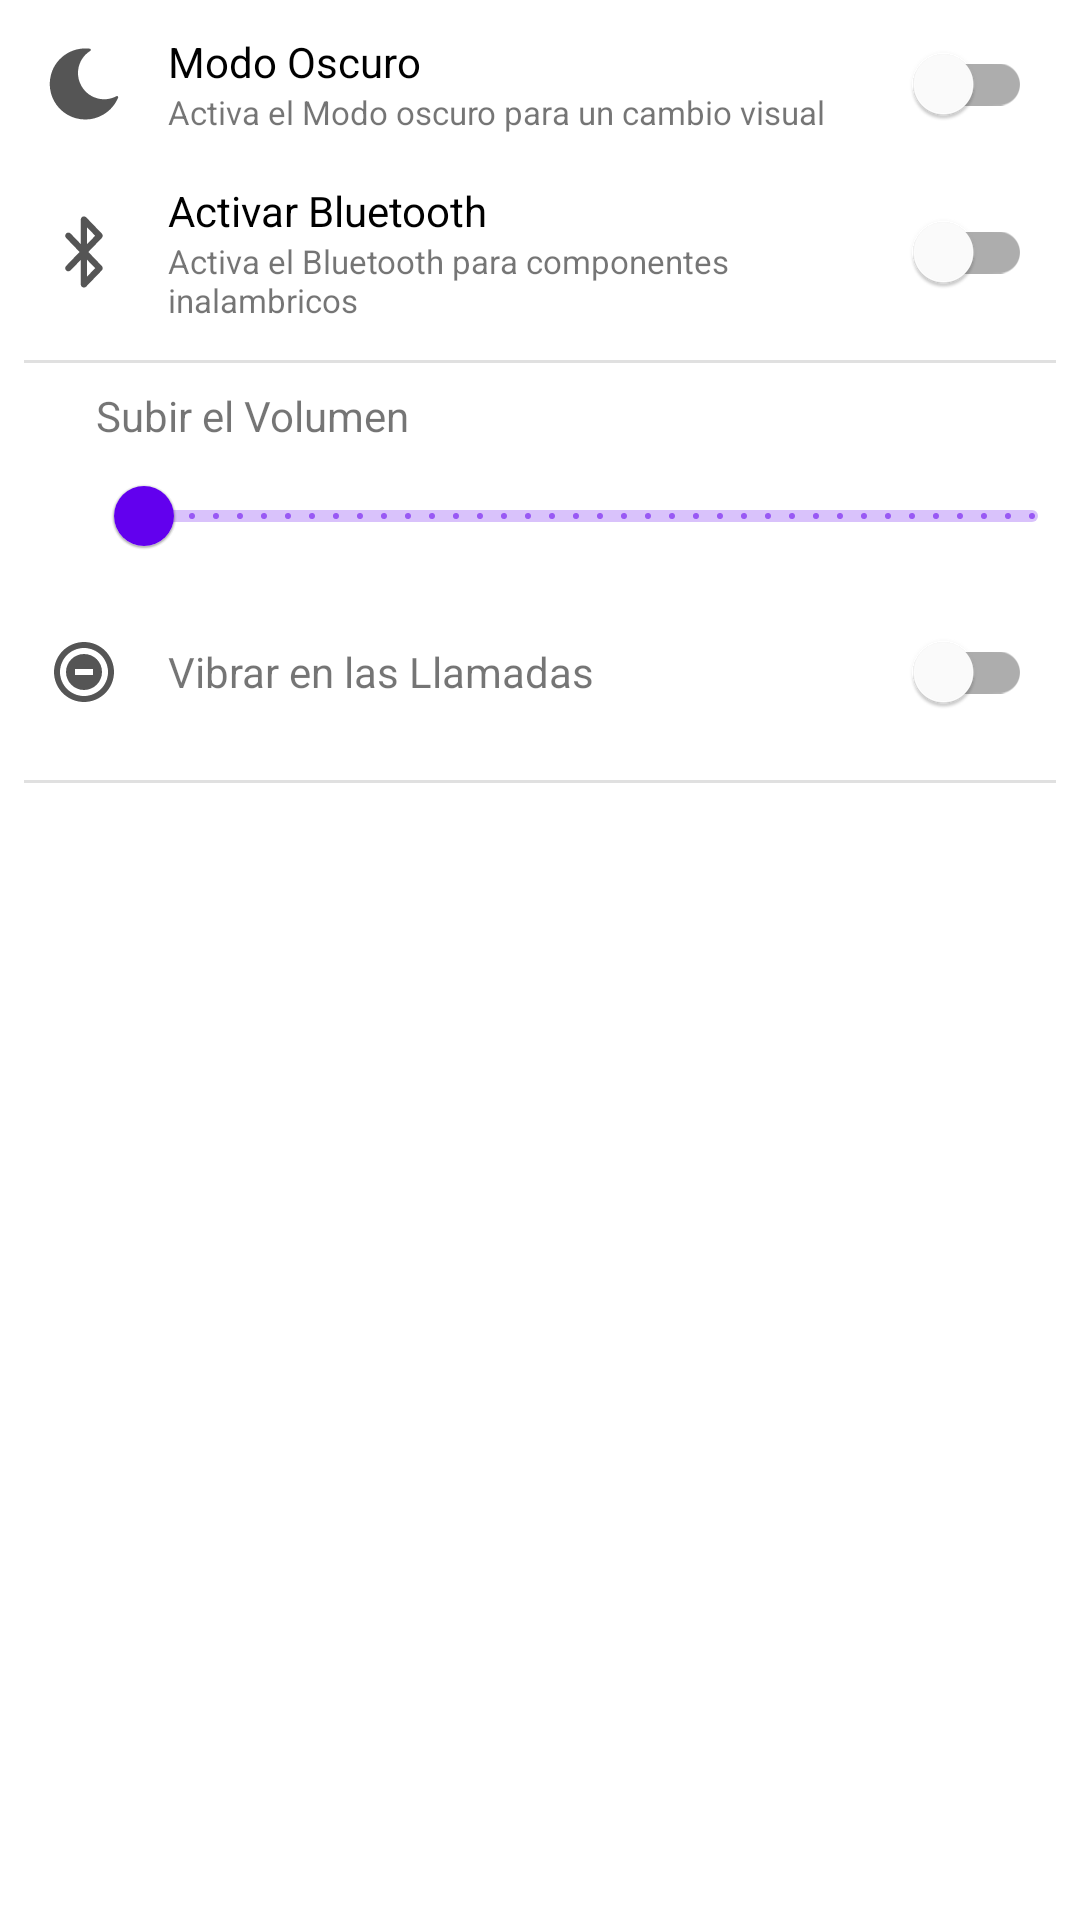

Locate icon controls on the screen. Image size 1080px x 1920px, boxes as (x1,y1,x2,y2).
mode: (49,48,118,120)
